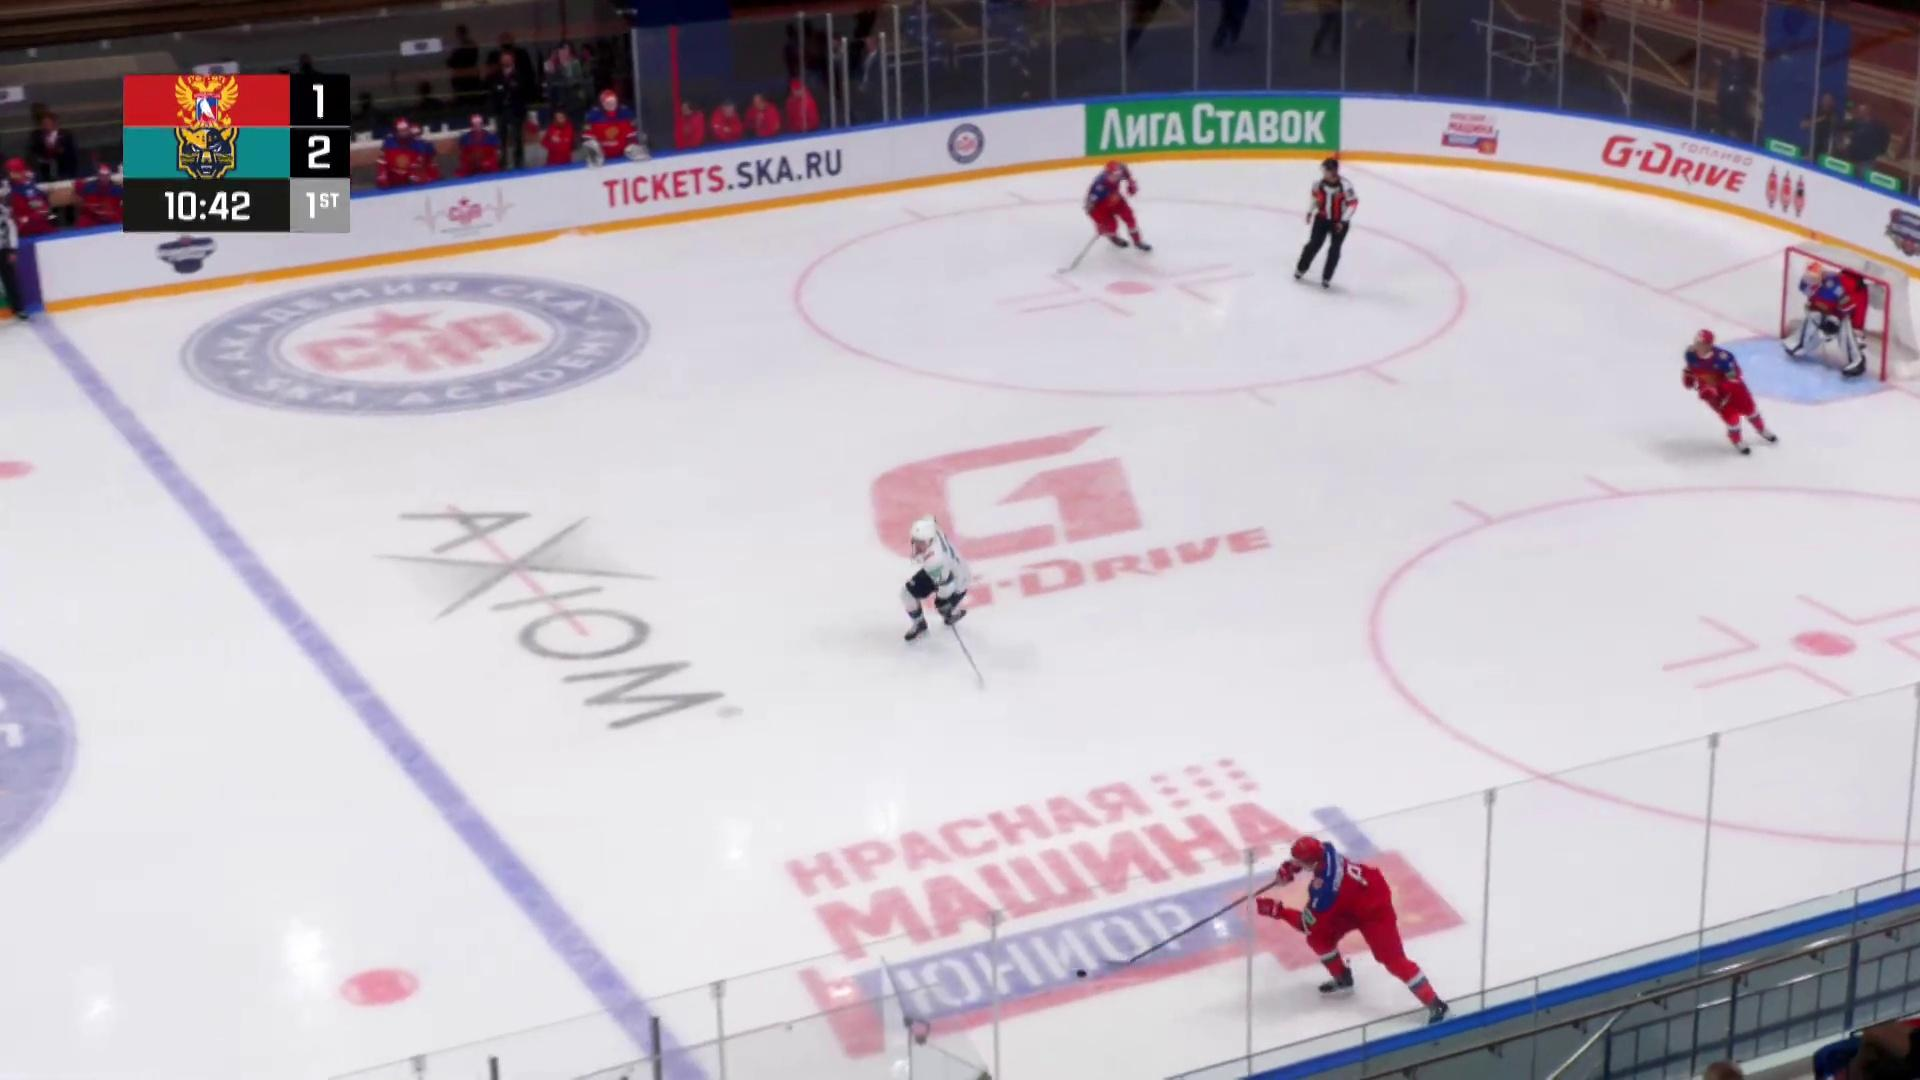ball: (1076, 971, 1088, 978)
